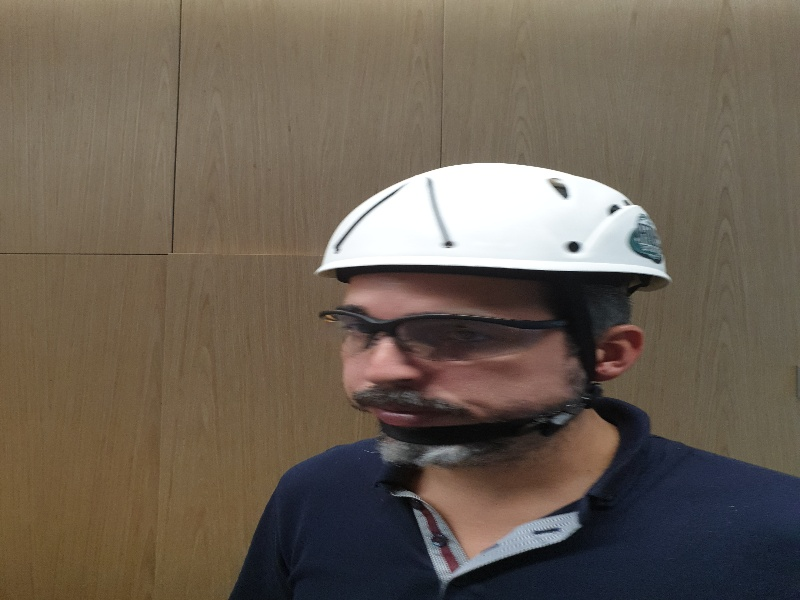Baret: (314, 163, 667, 283)
Gozluk: (316, 308, 582, 358)
